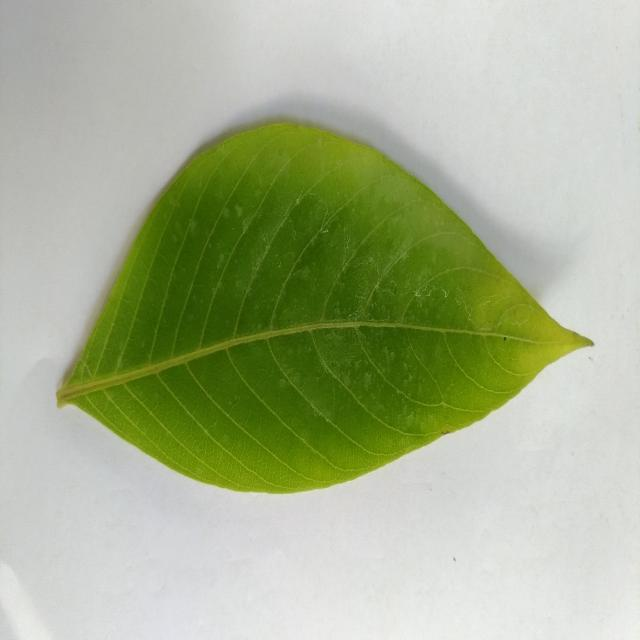malabar_nut: (56, 124, 591, 493)
